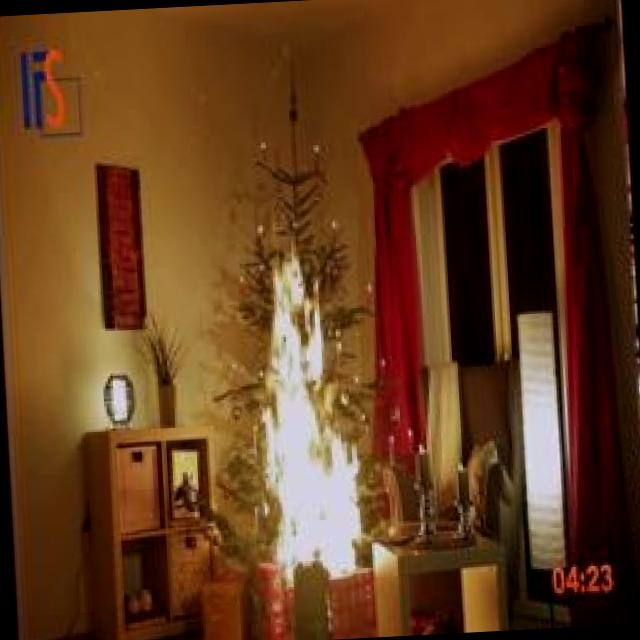fire: (234, 228, 394, 608)
